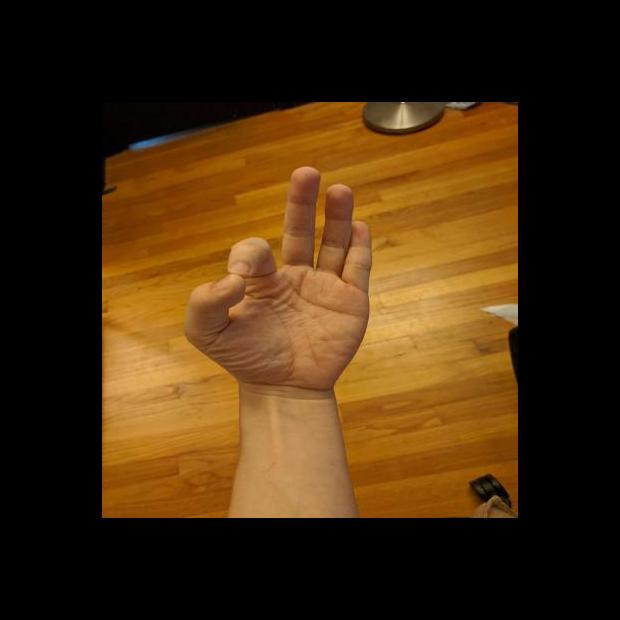E: (180, 162, 377, 394)
